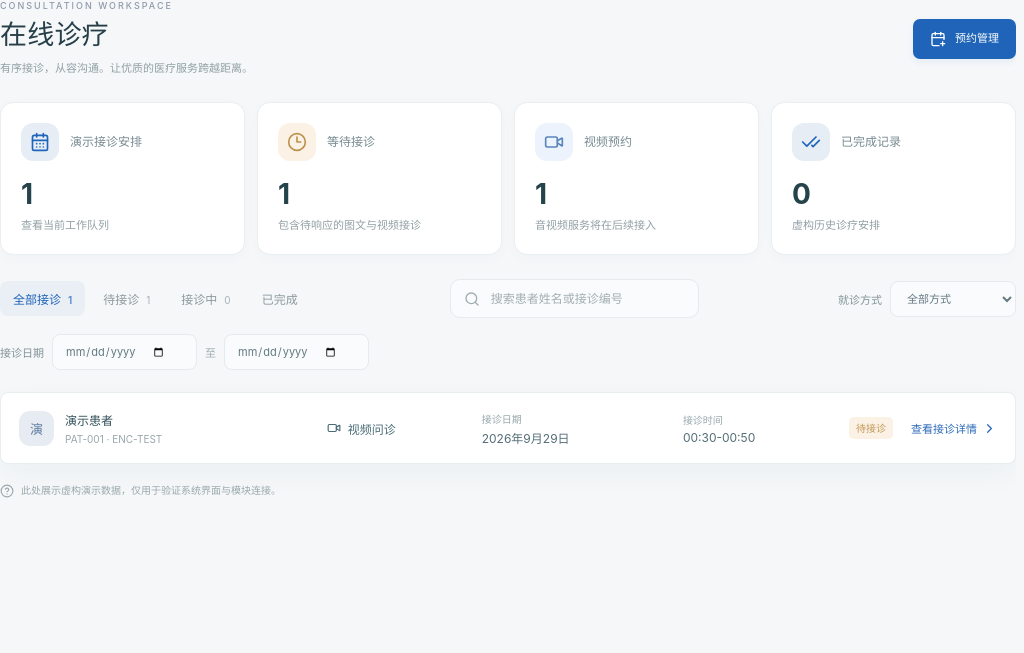
Test case: ending a video visit never claims media retention and failure does not mark it complete
Click the button "查看接诊详情" at (954, 428), box [911, 415, 997, 441]
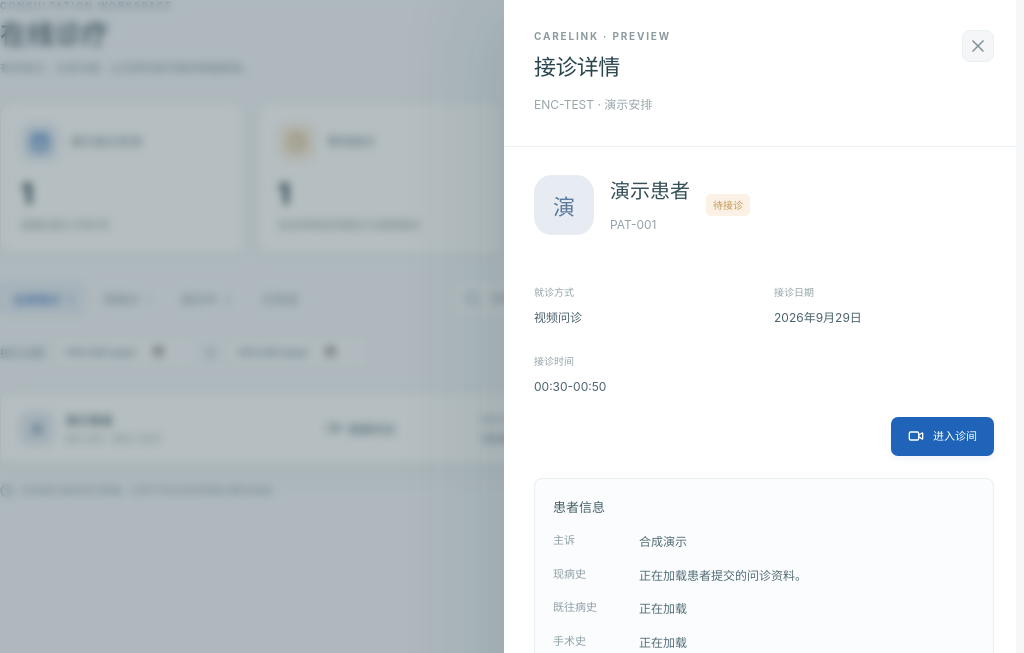
Click the button "进入诊间" at (942, 436), box [891, 417, 994, 456]
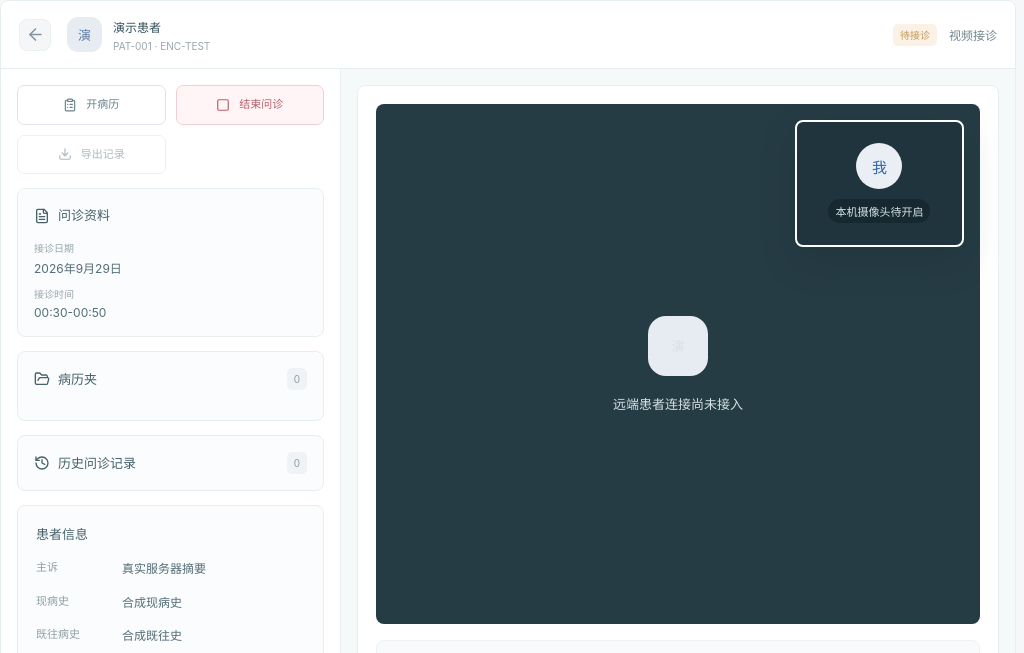
Now the button named "返回接诊列表" is shown, box [19, 18, 51, 50]
Now the text "真实服务器摘要" is shown, box [122, 561, 206, 576]
Click the button "结束问诊" at (250, 105), box [176, 85, 324, 125]
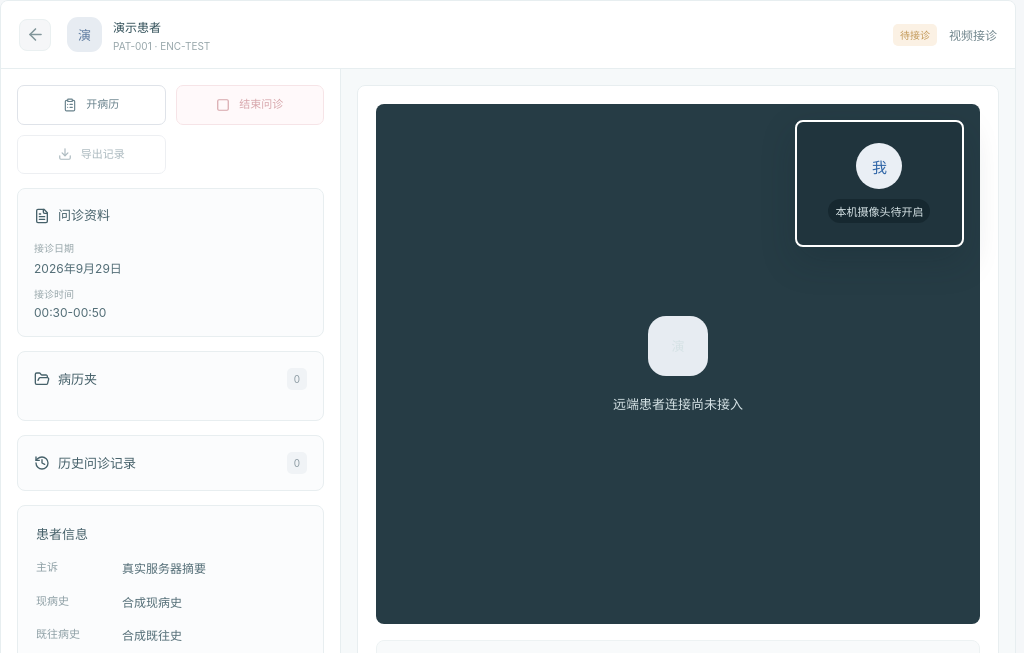
Click the button "结束问诊" at (250, 105), box [176, 85, 324, 125]
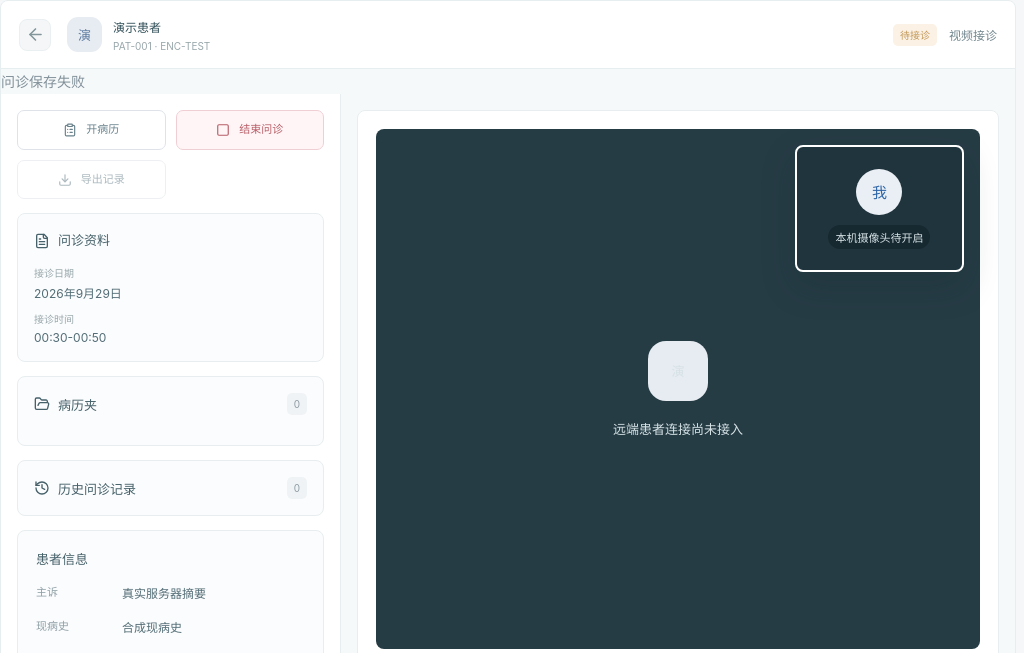
Now the message reads "问诊保存失败", box [1, 73, 85, 90]
Now the button "结束问诊" is enabled, box [176, 110, 324, 150]
